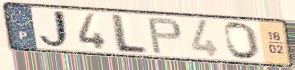4: (76, 12, 109, 52), (190, 18, 221, 60)
J: (37, 8, 74, 51)
L: (111, 13, 149, 55)
O: (222, 20, 262, 61)
P: (146, 17, 185, 55)
